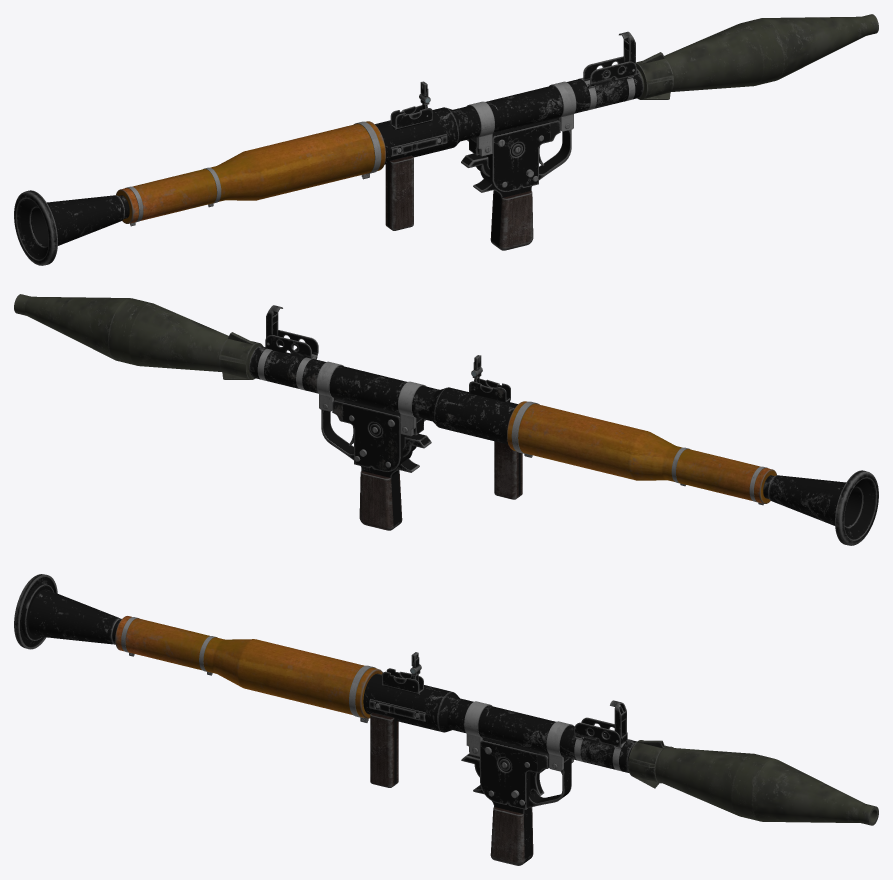
File: rpg.glb
3 views of the same model, one above another, from view 1: azimuth 30°, elevation 25°; view 2: azimuth 150°, elevation 25°; view 3: azimuth 330°, elevation 25° (orthographic).
Visible parts, largest first — view 1: Body3, Body1_22, Body2, Body5, Body1_7, Body1, Body15, Body1_6, Body51, Body1_1, Body52, Body1_3 (+1 smaller); view 2: Body3, Body1_22, Body2, Body5, Body1_10, Body1, Body1_9, Body16, Body51, Body1_1, Body1_3, Body52; view 3: Body1_22, Body3, Body2, Body5, Body1_7, Body15, Body1_6, Body1, Body51, Body1_1, Body52, Body1_3.
Boxes of the visible parts, <box> form: Body3: <box>116,121,385,223</box>; Body1_22: <box>636,14,878,99</box>; Body2: <box>375,68,643,164</box>; Body5: <box>14,190,124,265</box>; Body1_7: <box>490,121,550,191</box>; Body1: <box>469,117,571,248</box>; Body15: <box>389,156,413,230</box>; Body1_6: <box>499,191,533,250</box>; Body51: <box>583,56,636,88</box>; Body1_1: <box>466,101,494,156</box>; Body52: <box>390,105,432,129</box>; Body1_3: <box>549,81,576,131</box>; Body3: <box>507,401,776,503</box>; Body1_22: <box>14,294,263,379</box>; Body2: <box>249,346,517,444</box>; Body5: <box>768,470,878,545</box>; Body1_10: <box>342,401,402,471</box>; Body1: <box>321,397,423,528</box>; Body1_9: <box>359,471,393,530</box>; Body16: <box>494,441,518,499</box>; Body51: <box>265,330,318,359</box>; Body1_1: <box>398,381,426,436</box>; Body1_3: <box>316,361,343,411</box>; Body52: <box>469,378,510,401</box>; Body1_22: <box>628,740,878,825</box>; Body3: <box>115,616,382,718</box>; Body2: <box>363,673,636,772</box>; Body5: <box>14,574,121,649</box>; Body1_7: <box>480,739,539,809</box>; Body15: <box>370,713,394,787</box>; Body1_6: <box>490,807,524,865</box>; Body1: <box>469,737,571,863</box>; Body51: <box>574,717,627,748</box>; Body1_1: <box>464,701,492,756</box>; Body52: <box>382,668,423,693</box>; Body1_3: <box>546,721,573,771</box>.
Bounding box in the file's own units: 8.65 × 1.85 × 0.6975.
Materials: 1 (1 with a texture image).
